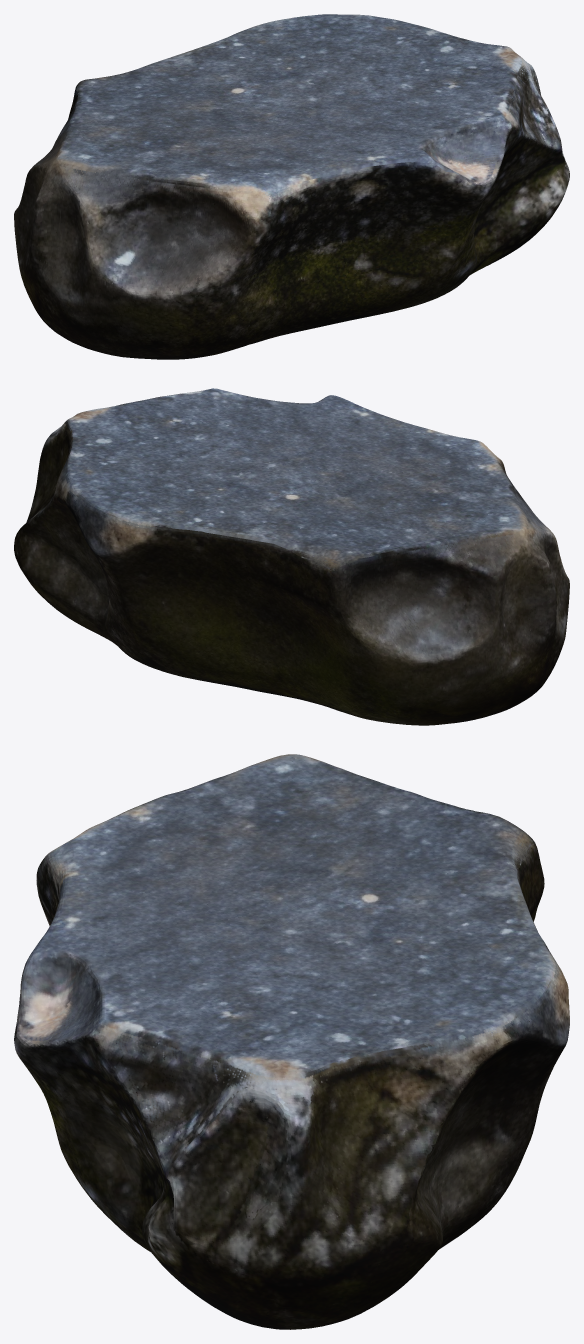
File: traveler_env_coast_kudo_ford_slab_00001_.glb
3 views of the same model, one above another, from view 1: azimuth 30°, elevation 25°; view 2: azimuth 150°, elevation 25°; view 3: azimuth 270°, elevation 25° (orthographic). The views are drawn at different scales.
Visible parts, largest first — view 1: temp_mesh.ply; view 2: temp_mesh.ply; view 3: temp_mesh.ply.
Part boxes in pixels (x1=…): temp_mesh.ply: x1=14, y1=14, x2=569, y2=359; temp_mesh.ply: x1=14, y1=388, x2=569, y2=725; temp_mesh.ply: x1=14, y1=754, x2=569, y2=1329.
Bounding box in the file's own units: 1.96 × 0.6841 × 1.27.
Materials: 1 (1 with a texture image).
